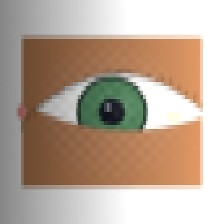pinguecula_lesion: (158, 104, 189, 129)
